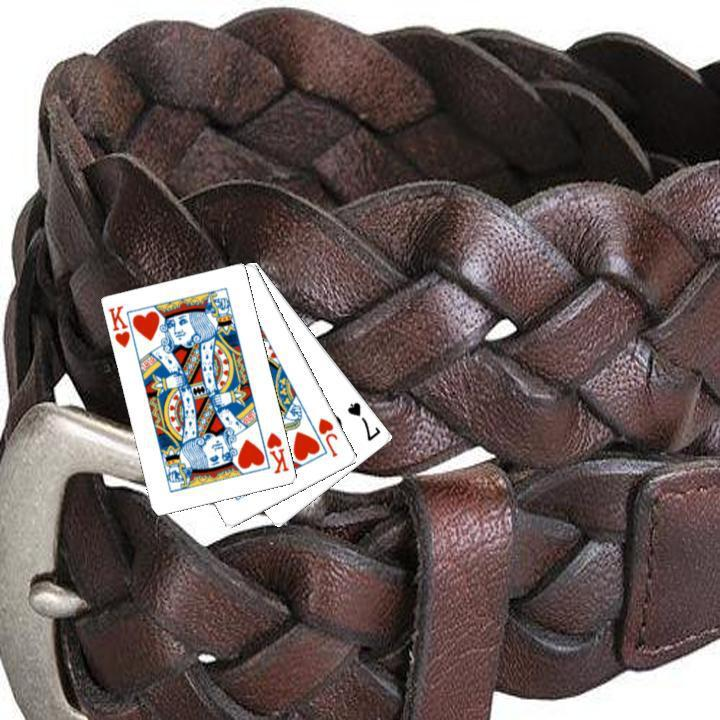7: (343, 398, 383, 443)
J: (314, 414, 340, 459)
K: (262, 428, 291, 476), (105, 301, 133, 350)
